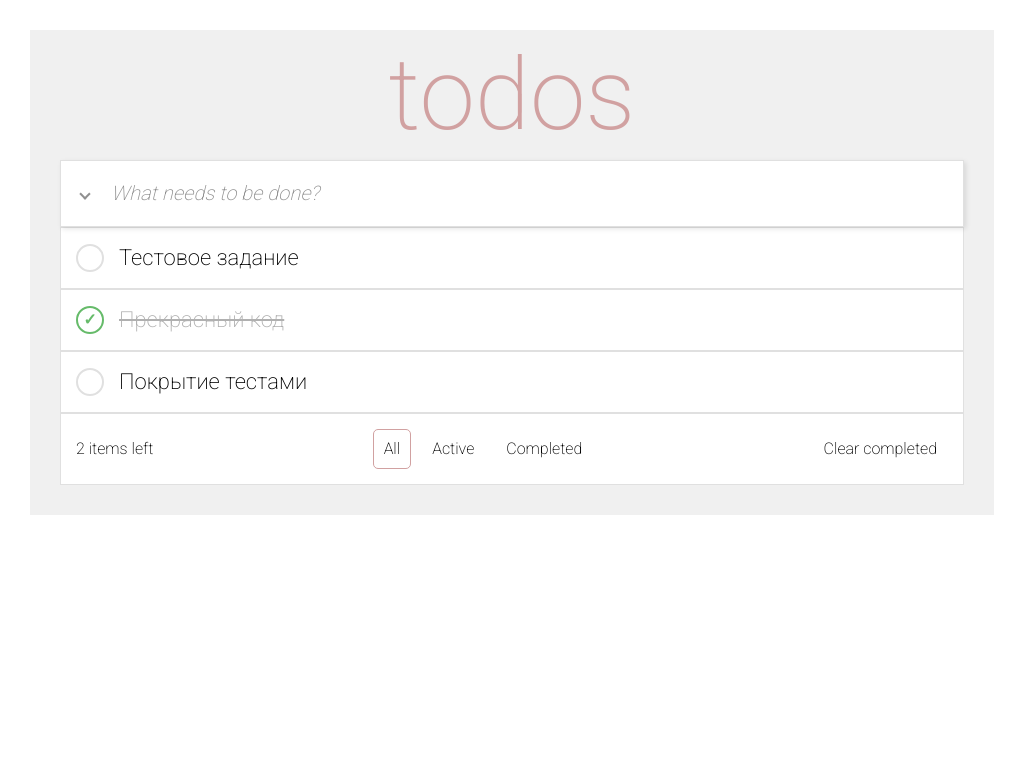
Test case: Список задач › Очистка выполненных задач
The image size is (1024, 768).
Type "Заказать продукты" into the field with placeholder "What needs to be done?" at point(512, 194), box [81,181,943,206]
Then press Enter
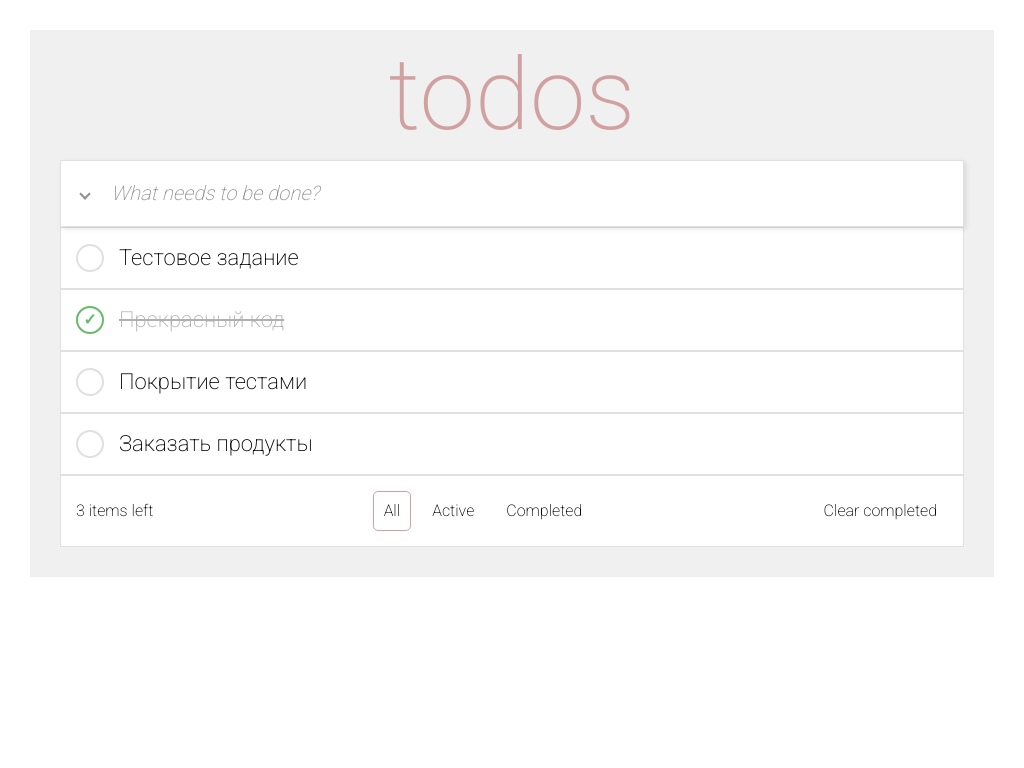
Click the checkbox next to "Заказать продукты" at point(90, 444), box [76,430,104,458]
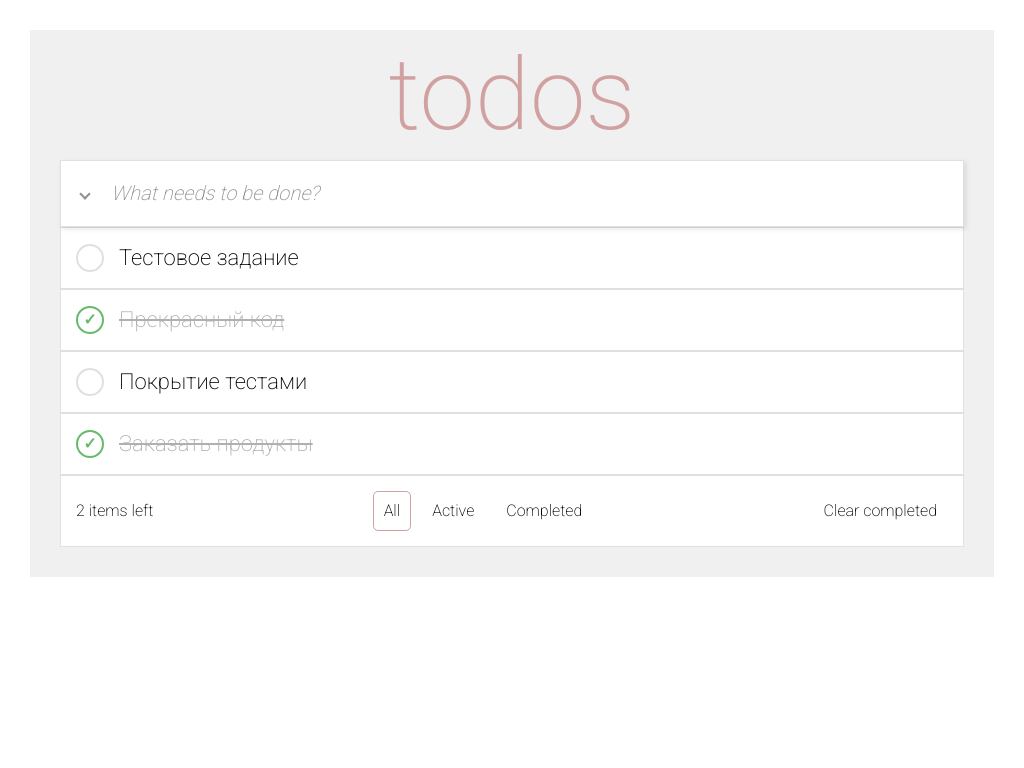
Click the button "Clear completed" at point(880, 511), box [813,491,948,531]
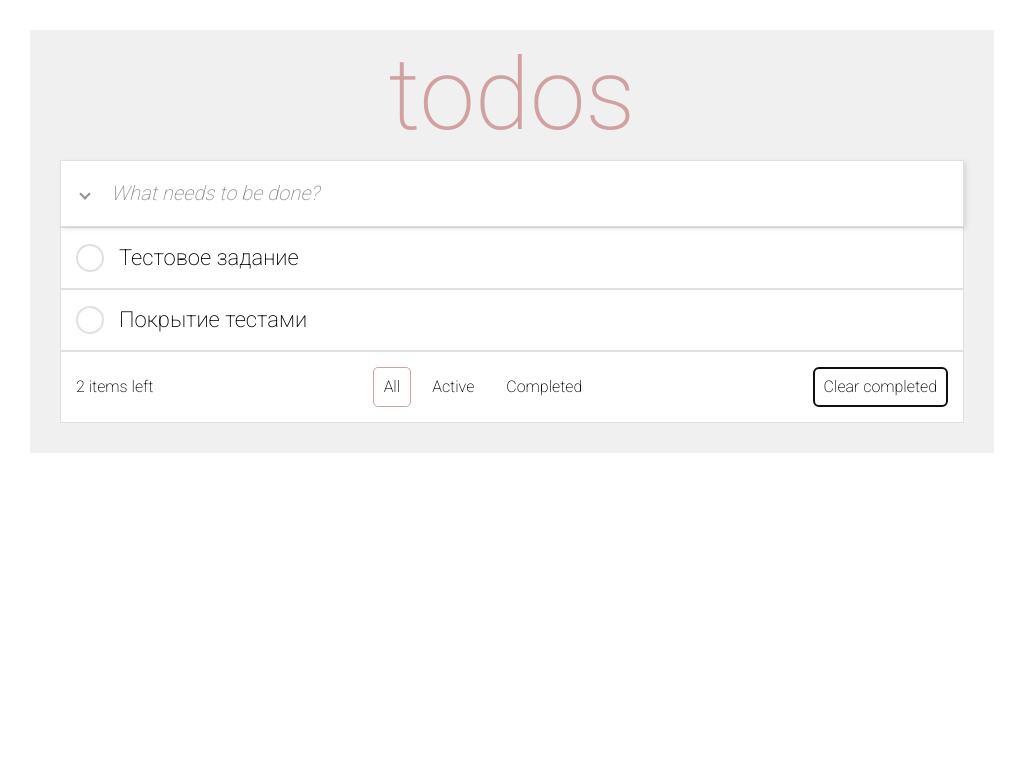
Now the text "Заказать продукты" is gone
